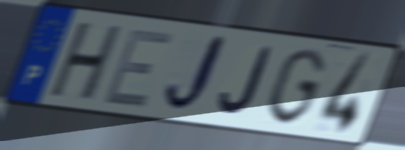4: (316, 50, 375, 138)
E: (99, 27, 177, 111)
G: (263, 46, 329, 128)
H: (45, 20, 126, 105)
J: (158, 31, 231, 118), (217, 45, 275, 118)
